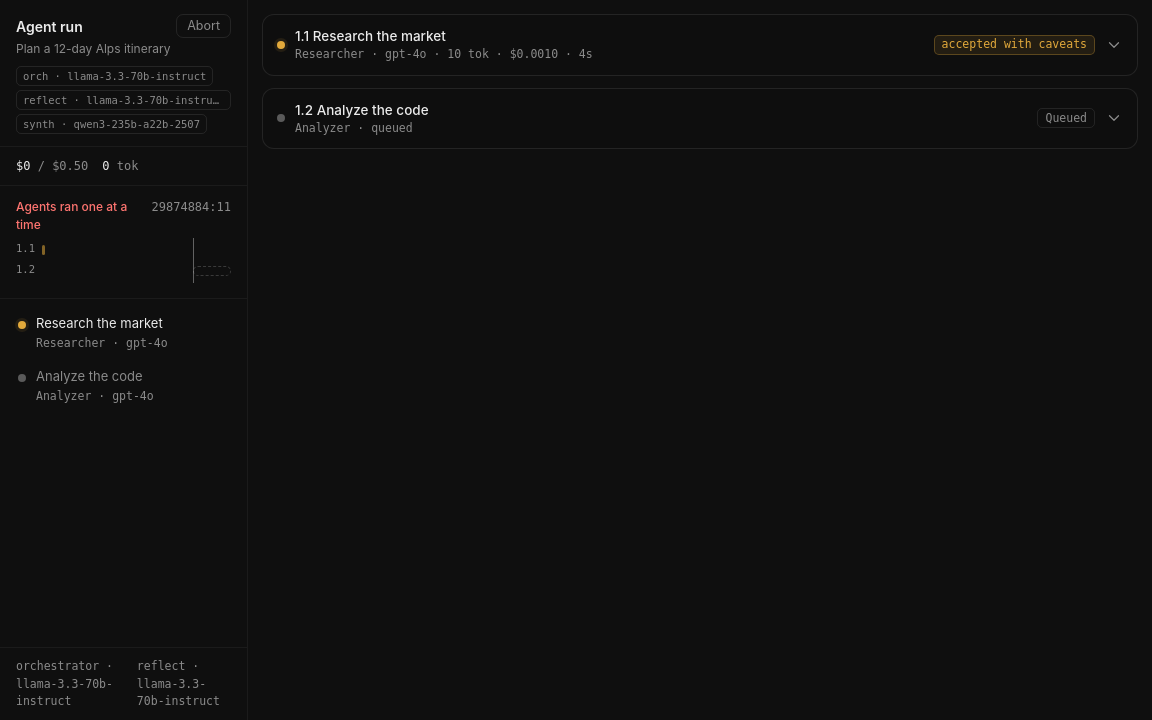
steps accepted with caveats (reflection hardening Phase 7) › the reflection row reads "{score}/5 · {evidenceMode} evidence · {claimsFailed} claims failed"
Click the button named "Expand trace" next to "accepted with caveats".
click(1114, 45)  # box [1105, 36, 1123, 54]
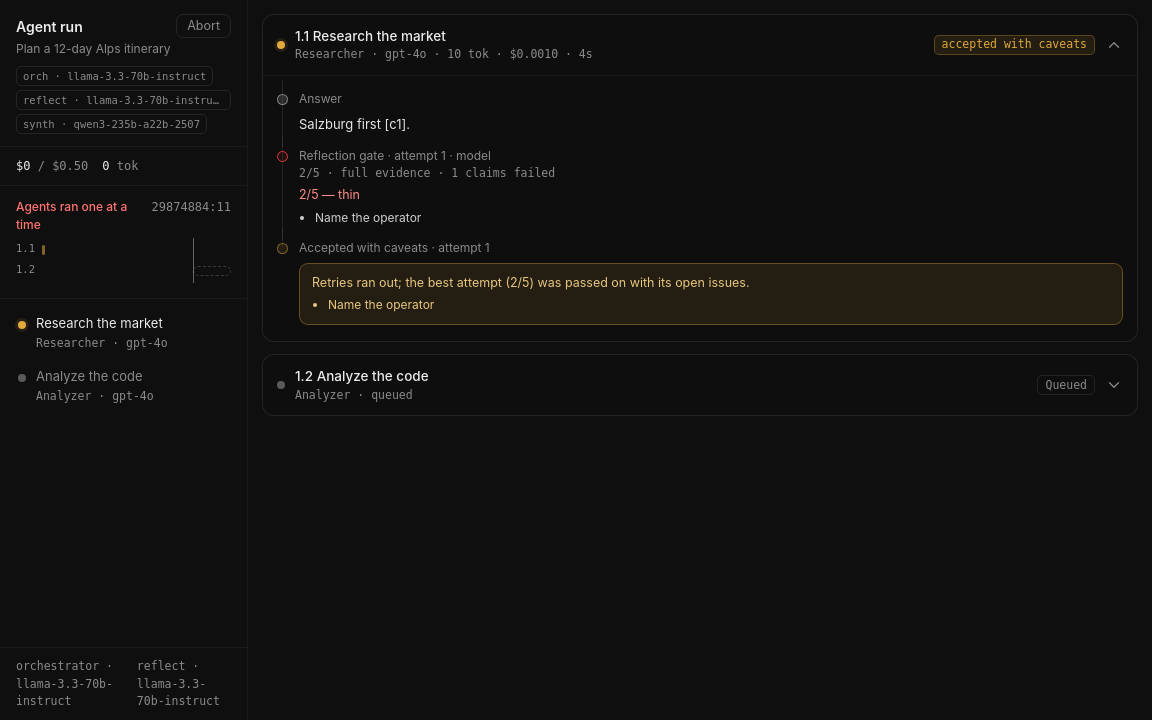
Check: the text with test id "reflection-stats" reads "2/5 · full evidence · 1 claims failed", box [299, 166, 555, 180]
